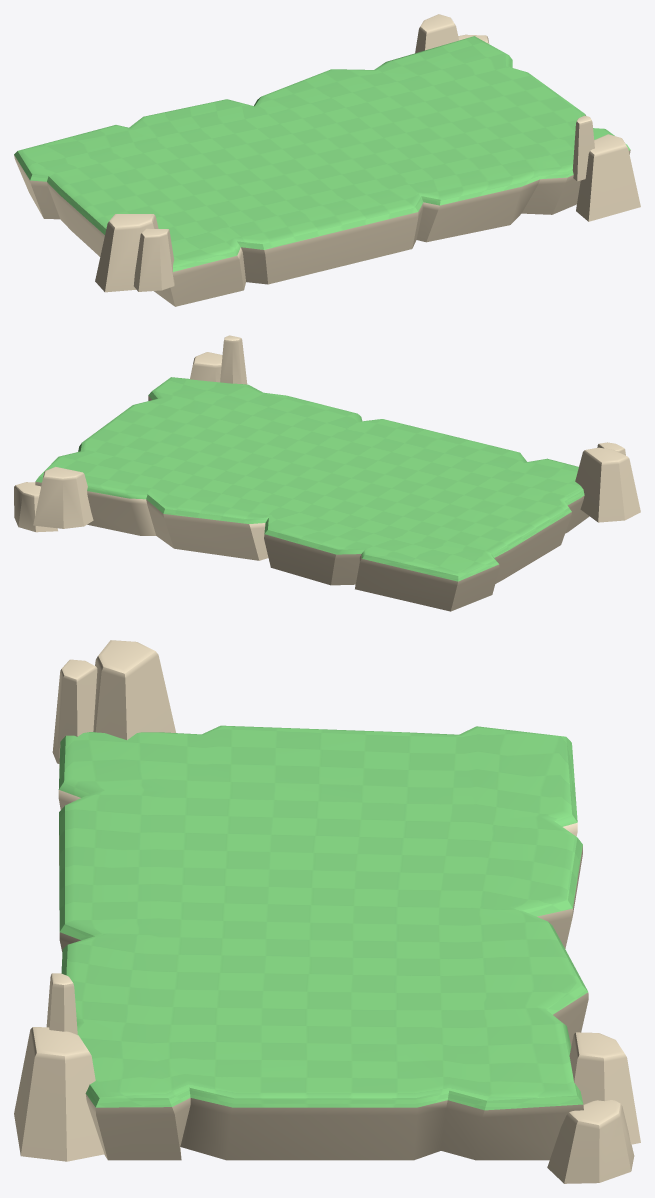
Rendered from tap fire land.fbx.
3 views of the same model, one above another, from view 1: azimuth 30°, elevation 25°; view 2: azimuth 150°, elevation 25°; view 3: azimuth 270°, elevation 25° (orthographic). The views are drawn at different scales.
Visible parts, largest first — view 1: pCube1, pCube2, pCube3, pCube6, pCube8, pCube5; view 2: pCube1, pCube3, pCube8, pCube9, pCube5, pCube2; view 3: pCube1, pCube2, pCube3, pCube9, pCube8, pCube6, pCube5.
Boxes of the visible parts, x1,y1,x2,y2 form: pCube1: (14,36,630,306); pCube2: (576,134,640,221); pCube3: (95,214,158,292); pCube6: (133,228,174,291); pCube8: (415,14,458,53); pCube5: (572,115,594,181); pCube1: (35,377,589,611); pCube3: (575,447,640,522); pCube8: (33,466,93,528); pCube9: (14,482,57,532); pCube5: (220,335,247,384); pCube2: (190,352,222,382); pCube1: (58,725,588,1160); pCube2: (14,1027,104,1161); pCube3: (93,640,175,739); pCube9: (547,1100,634,1183); pCube8: (569,1032,640,1144); pCube6: (52,659,97,763); pCube5: (46,973,77,1034).
Size of the model in its own units: 39.41 by 6.49 by 24.85.
1 material, 1 textured.
